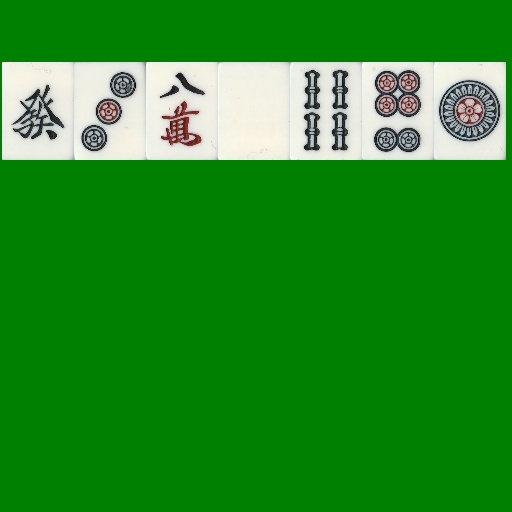1p: (434, 62, 506, 160)
3p: (74, 62, 146, 160)
4s: (290, 62, 362, 160)
6p: (362, 62, 434, 160)
8m: (146, 62, 218, 160)
hatsu: (2, 62, 74, 160)
white: (218, 62, 290, 160)
